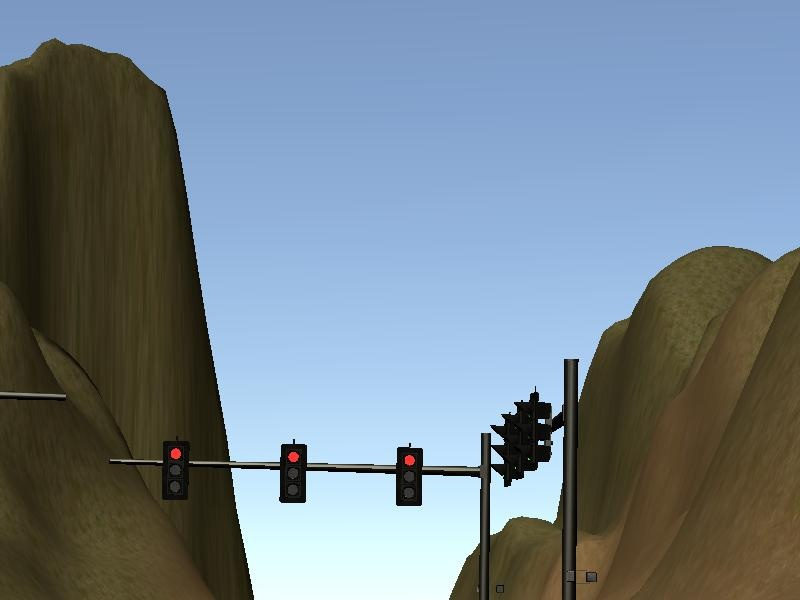RED: (394, 448, 422, 508), (278, 443, 306, 503), (161, 441, 189, 501)
